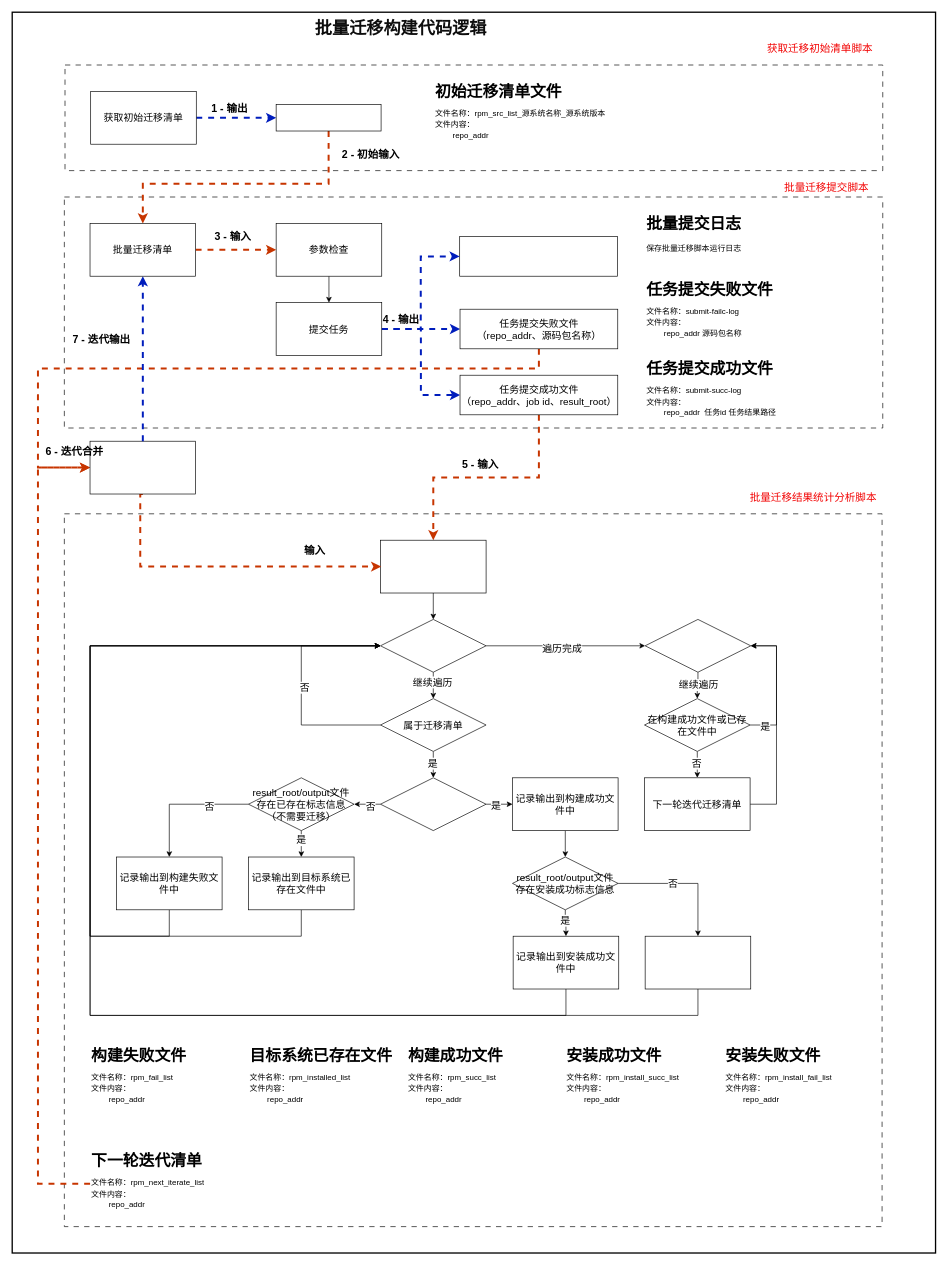
This 947x1265 diagram has some shape labels left out. The centre of each missing label's shape, as x and y in pixels:
"result_root/output文件存在构建成功标志信息" goes at point (433, 804).
"参数检查、初始化" goes at point (433, 566).
"合并为迭代 批量迁移清单" goes at point (142, 467).
"批量提交日志" goes at point (538, 256).
"记录输出到安装失败文件中" goes at point (697, 962).
"迁移清单" goes at point (328, 117).
"遍历任务信息文件" goes at point (433, 645).
"遍历迁移文件" goes at point (697, 645).
